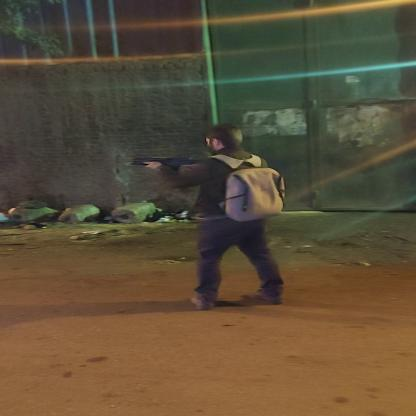long weapon: (107, 152, 205, 176)
